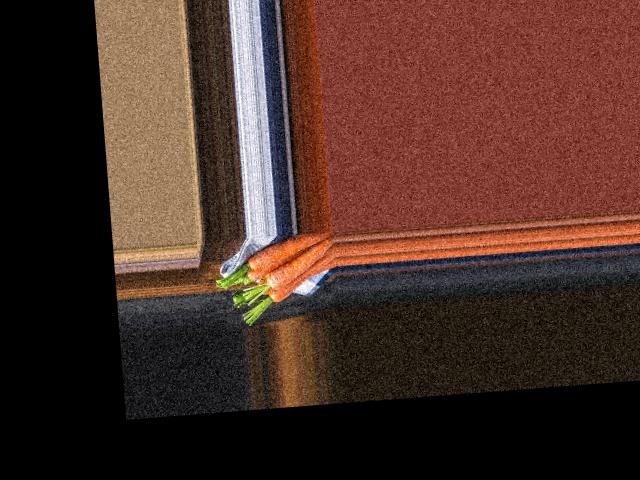carrot: (235, 230, 335, 271)
